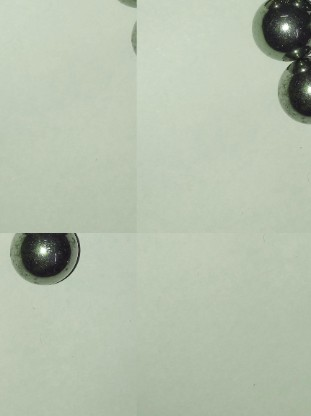ironball: (8, 232, 89, 291), (253, 0, 308, 61), (273, 56, 309, 130)
